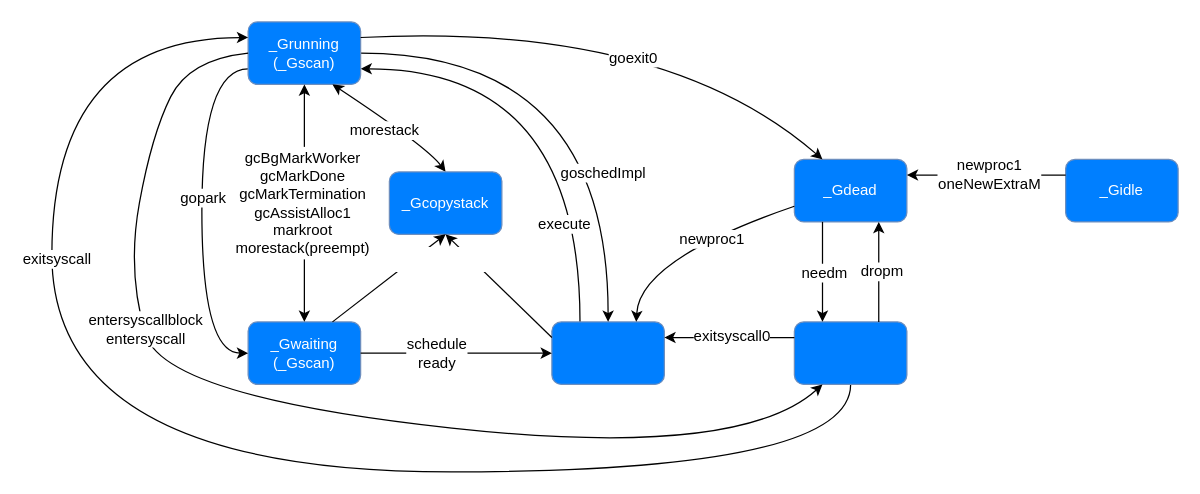
Image size: 1200x494. Some labels were removed from this diagram. Here are the shapes that lost their labels. From the top down, the centre of each, then its label:
[444,258]: casgcopystack
[607,352]: _Grunnable (_Gscan)
[850,352]: _Gsyscall (_Gscan)
